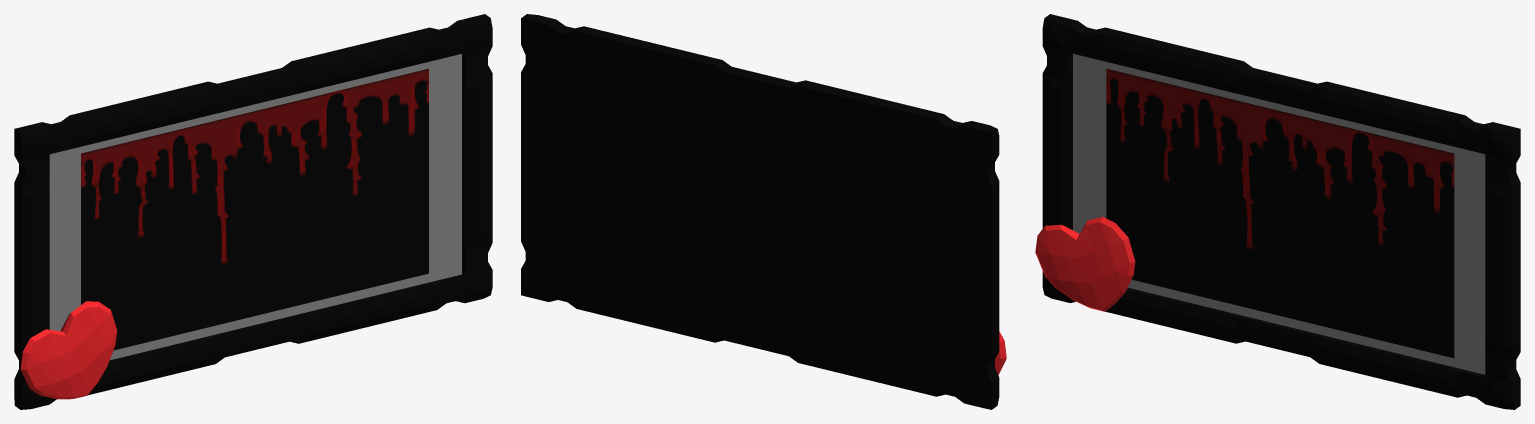
File: picture_frame.glb
3 views of the same model, side by side, from view 1: azimuth 30°, elevation 25°; view 2: azimuth 150°, elevation 25°; view 3: azimuth 330°, elevation 25° (orthographic).
Visible parts, largest first — view 1: Picture, Picture Frame, Pictureframe back, heart; view 2: Picture Frame; view 3: Picture, Picture Frame, Pictureframe back, heart.
Boxes of the visible parts, left/top/right/bottom form: Picture: left=81, top=68, right=428, bottom=350; Picture Frame: left=14, top=14, right=492, bottom=409; Pictureframe back: left=49, top=54, right=461, bottom=360; heart: left=20, top=301, right=117, bottom=399; Picture Frame: left=521, top=14, right=999, bottom=409; Picture: left=1106, top=68, right=1454, bottom=358; Picture Frame: left=1042, top=14, right=1520, bottom=409; Pictureframe back: left=1073, top=53, right=1485, bottom=374; heart: left=1035, top=216, right=1135, bottom=311.
Bounding box in the file's own units: 0.9894 × 0.5515 × 0.0508.
4 materials, 1 textured.
